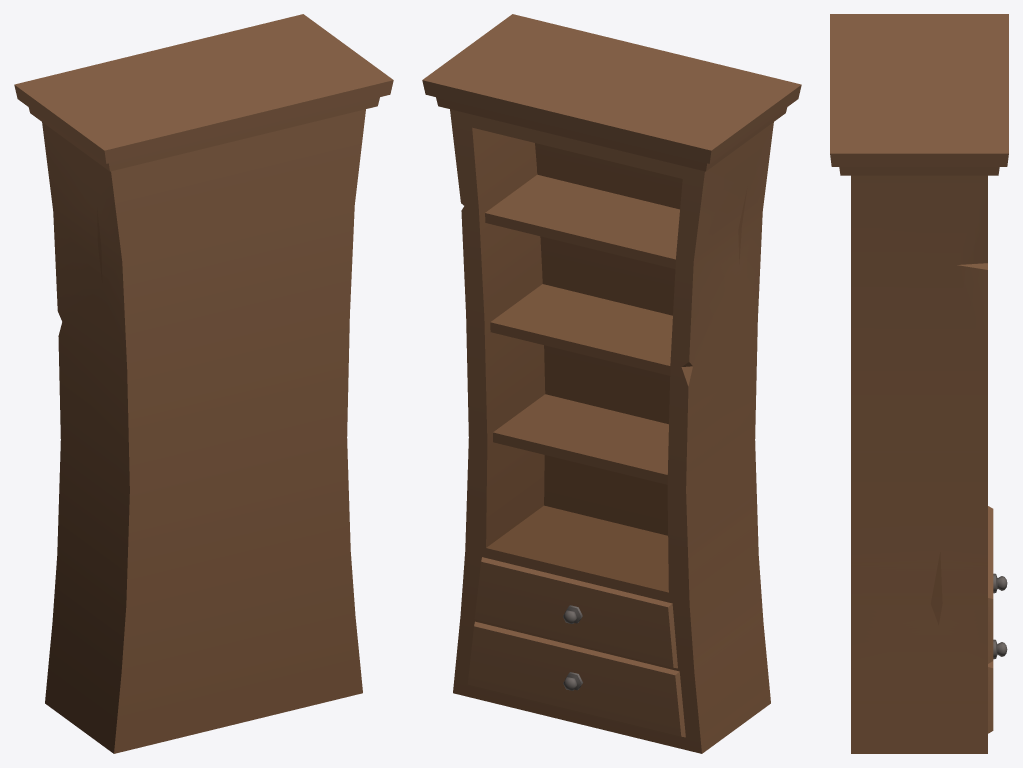
File: Shelf_Tall.fbx
3 views of the same model, side by side, from view 1: azimuth 30°, elevation 25°; view 2: azimuth 150°, elevation 25°; view 3: azimuth 270°, elevation 25° (orthographic).
Visible parts, largest first — view 1: Shelf_Tall; view 2: Shelf_Tall, Shelf_Tall_Drawer1, Shelf_Tall_Drawer2; view 3: Shelf_Tall, Shelf_Tall_Drawer2, Shelf_Tall_Drawer1.
Part boxes in pixels (<box>): Shelf_Tall: <box>14,14,393,753</box>; Shelf_Tall: <box>422,14,801,753</box>; Shelf_Tall_Drawer1: <box>467,621,685,737</box>; Shelf_Tall_Drawer2: <box>474,557,677,668</box>; Shelf_Tall: <box>830,14,1008,753</box>; Shelf_Tall_Drawer2: <box>988,506,1007,663</box>; Shelf_Tall_Drawer1: <box>988,639,1007,733</box>.
Bounding box in the file's own units: 99.08 × 202 × 53.61.
